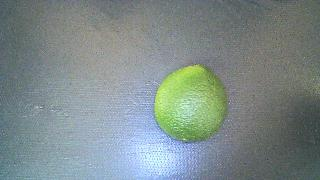EXPORTACION: (154, 65, 227, 142)
